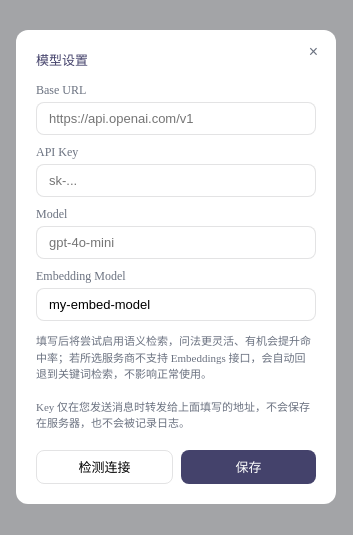
Test: a failed save shows an error and keeps the modal open
The image size is (353, 535).
Click the button "保存".
click(248, 467)  # box [181,450,316,484]
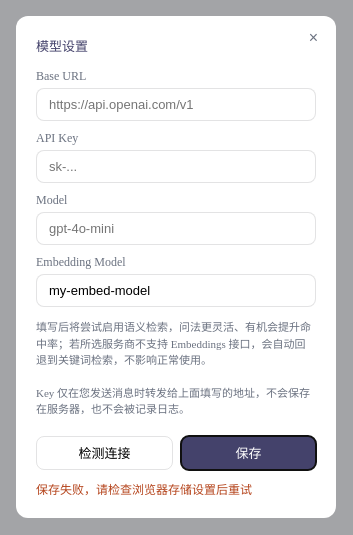
Check: the text "模型设置" is shown, box [36,39,88,54]
Check: the text "保存失败，请检查浏览器存储设置后重试" is shown, box [36,483,252,497]
